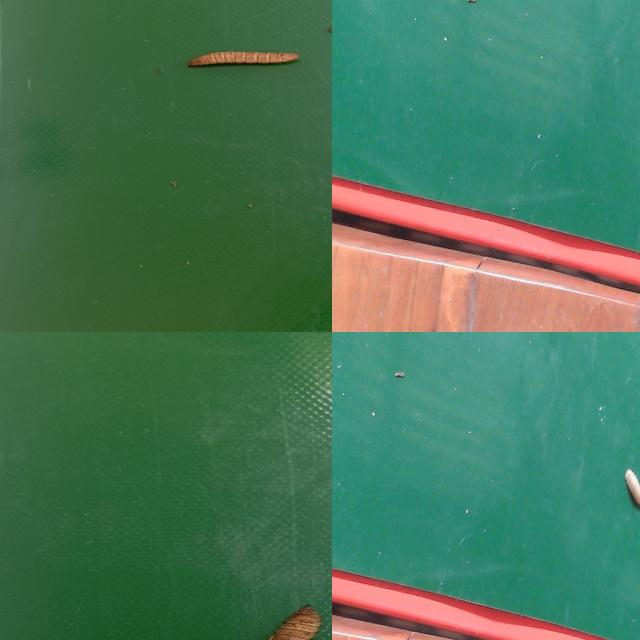Maggot: (187, 52, 299, 70), (265, 607, 323, 640), (624, 470, 640, 510)
